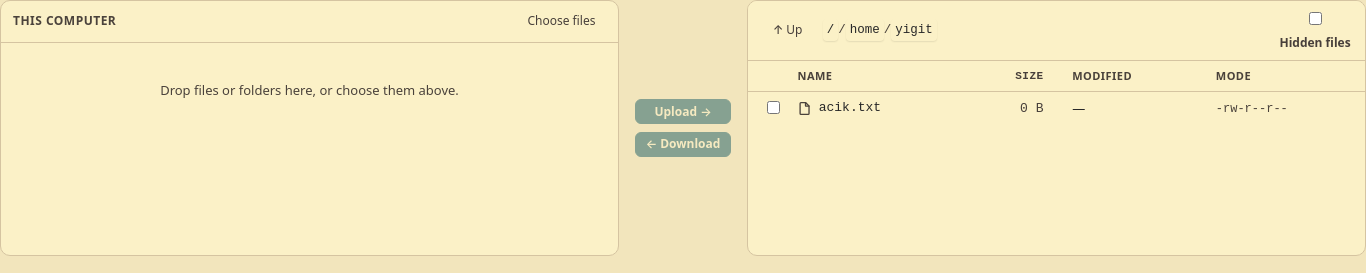
Test: FileBrowser › gizli dosyalar varsayılan gizli, düğmeyle açılıyor
Expected: the text "acik.txt" is shown, [798,98,881,118]
Expected: the text ".bashrc" is not shown
Click the checkbox labelled "Hidden files".
click(1316, 18)  # box [1309,12,1322,25]
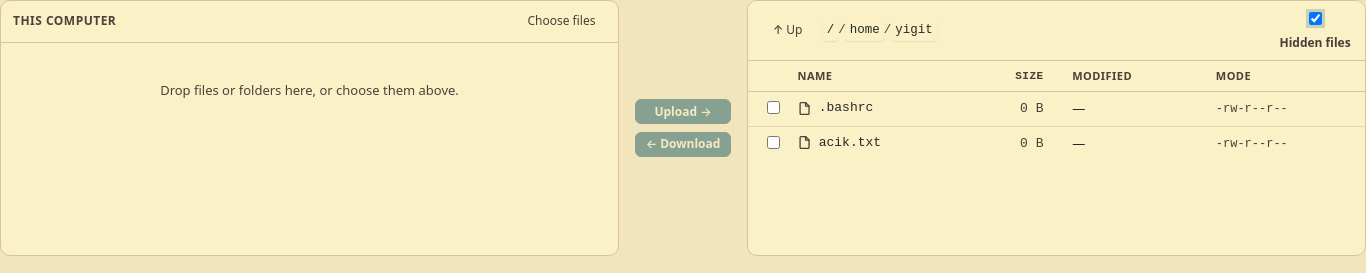
Expected: the text ".bashrc" is shown, [798,98,873,118]
